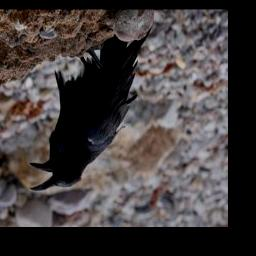Crow: (30, 26, 154, 191)
